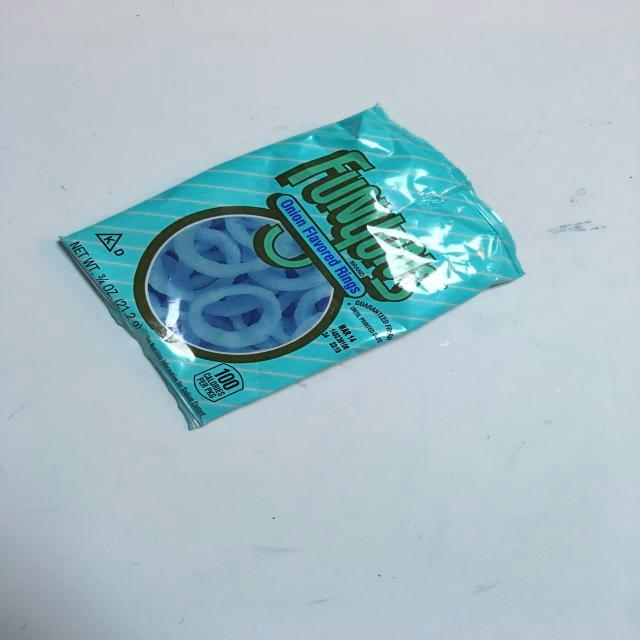plastic: (52, 98, 553, 457)
